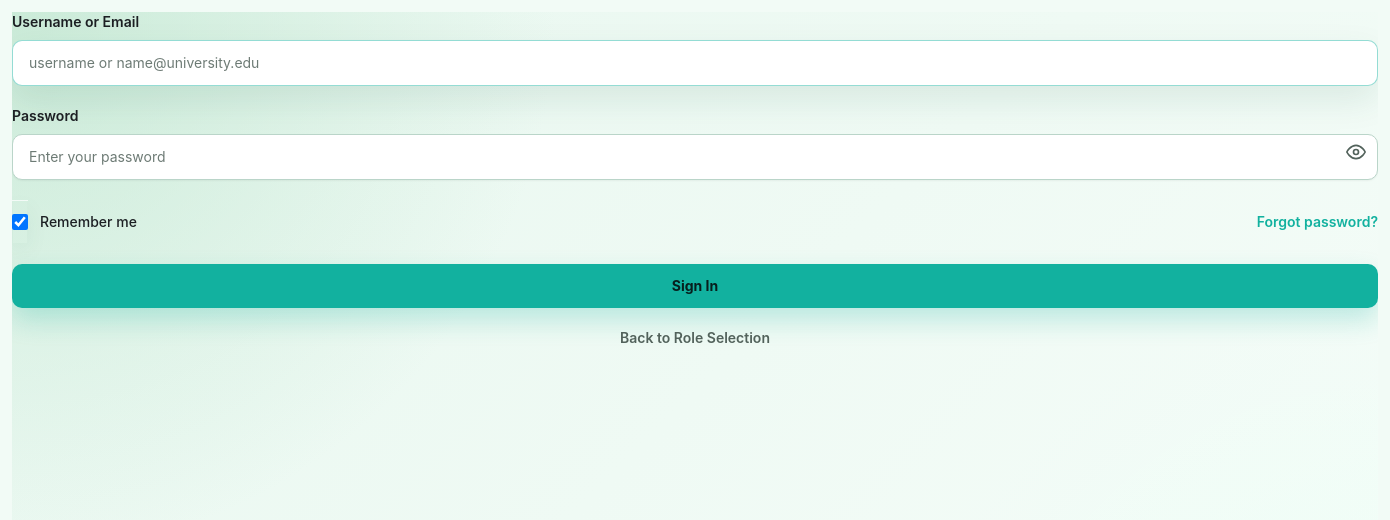
LoginForm › validates required fields
Click the button "Sign In".
click(695, 286)  # box [12, 264, 1378, 308]
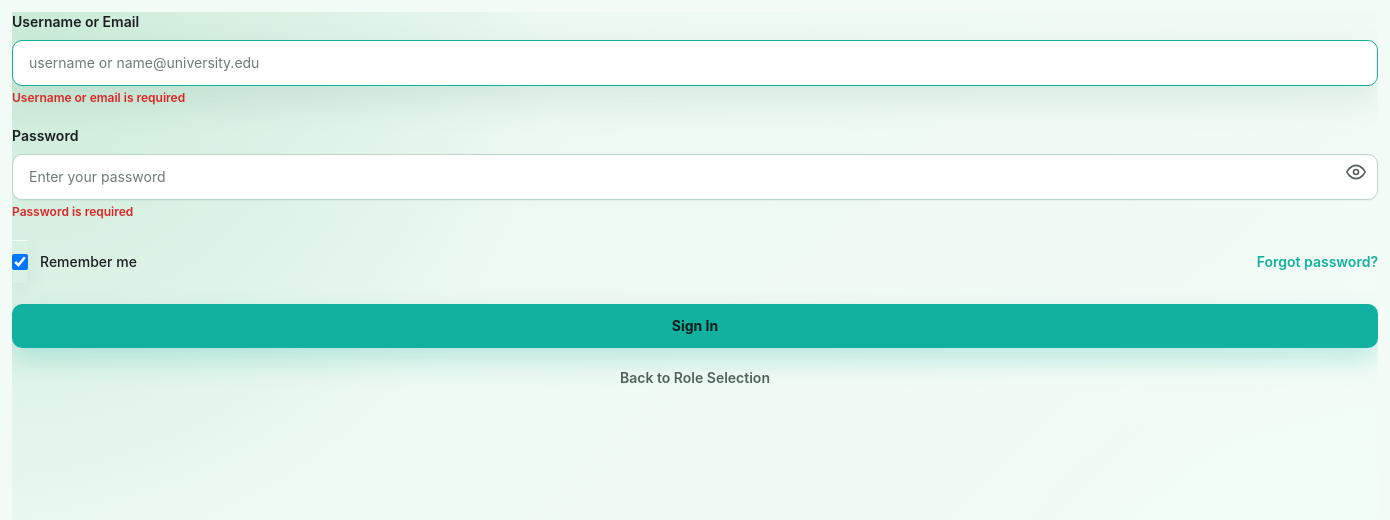
Expected: the text "Username or email is required" is shown, [12, 90, 185, 105]
Expected: the text "Password is required" is shown, [12, 204, 133, 219]
